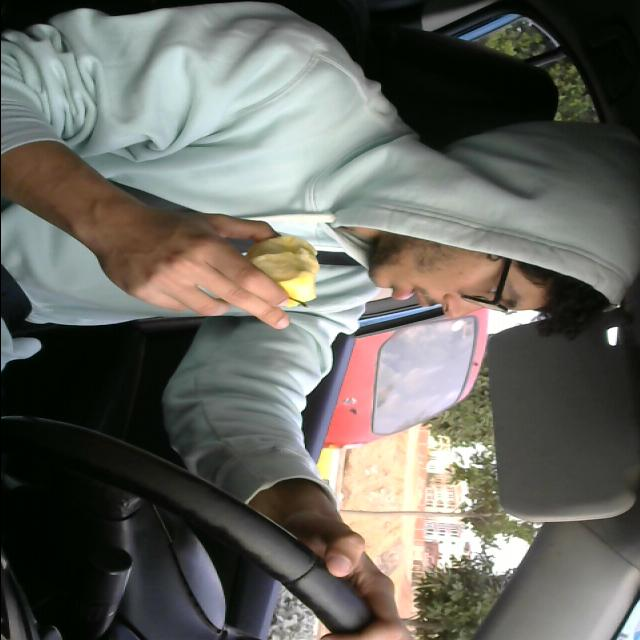eating: (248, 226, 324, 310)
